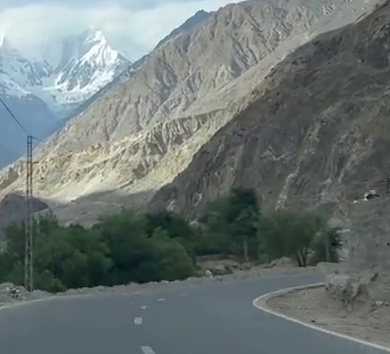stright: (163, 266, 370, 354)
